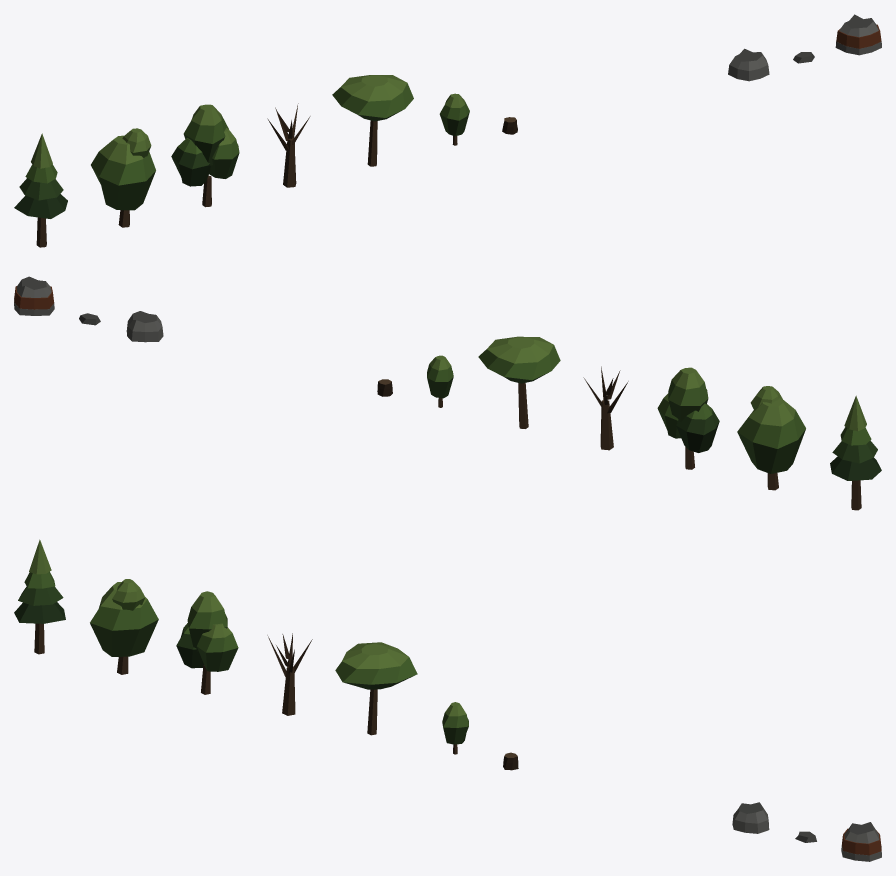
The model's file is props.glb.
3 renders of one model, top to bottom at view 1: azimuth 30°, elevation 25°; view 2: azimuth 150°, elevation 25°; view 3: azimuth 330°, elevation 25°, orthographic.
Visible parts, largest first — view 1: tree_cluster, tree_oak, tree_umbrella, tree_pine, ore, rock, tree_young, tree_bare; view 2: tree_oak, tree_cluster, tree_umbrella, tree_pine, ore, rock, tree_bare, tree_young; view 3: tree_oak, tree_cluster, tree_umbrella, tree_pine, ore, tree_bare, rock, tree_young.
Part boxes in pixels (x1,y1,x2,y2): tree_cluster: (171,104,239,207); tree_oak: (91,128,155,227); tree_umbrella: (332,75,413,166); tree_pine: (14,133,67,247); ore: (835,14,881,55); rock: (728,48,769,81); tree_young: (439,93,469,145); tree_bare: (267,103,310,187); tree_oak: (737,386,805,490); tree_cluster: (657,367,719,469); tree_umbrella: (478,336,560,428); tree_pine: (830,395,881,510); ore: (14,276,54,315); rock: (126,311,163,342); tree_bare: (583,366,628,450); tree_young: (427,355,453,407); tree_oak: (90,579,158,674); tree_cluster: (176,591,238,694); tree_umbrella: (335,642,417,735); tree_pine: (14,539,65,654); ore: (841,822,881,861); tree_bare: (267,633,312,715); rock: (732,802,769,833); tree_young: (442,702,468,754).
Bounding box in the file's own units: 18.72 × 2.34 × 1.55.
